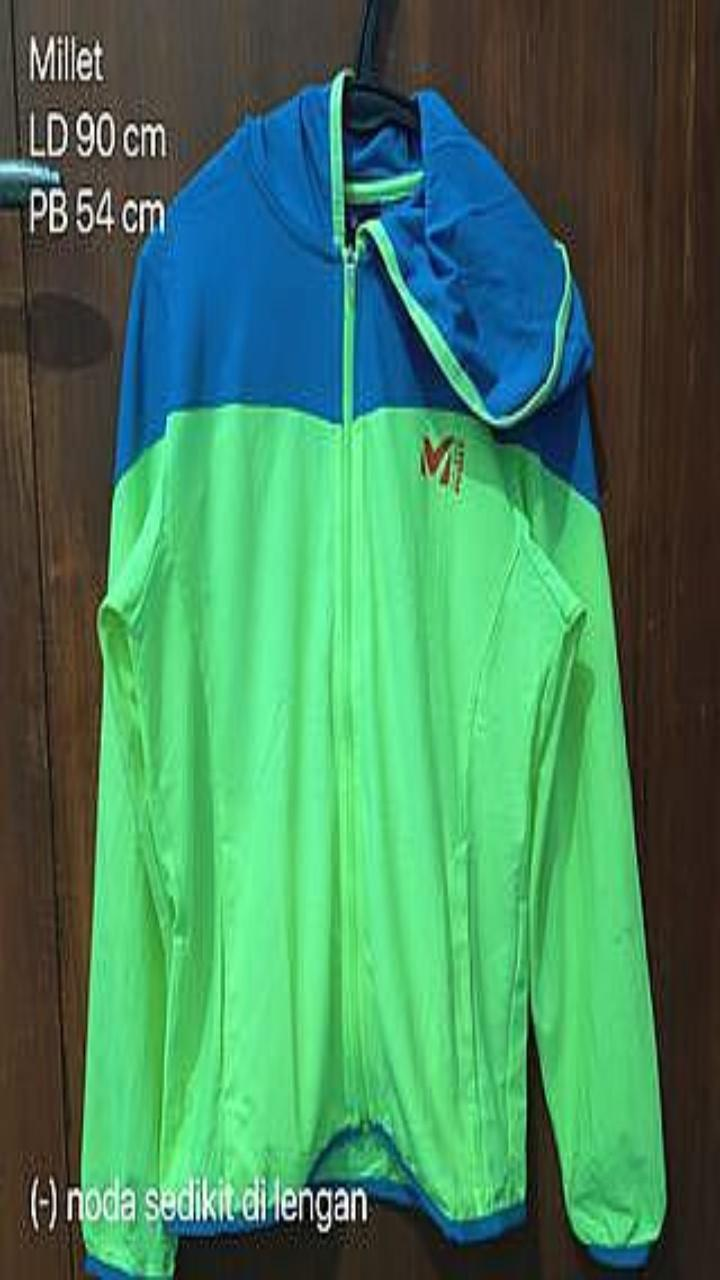Sports_Jacket: (81, 67, 664, 1277)
